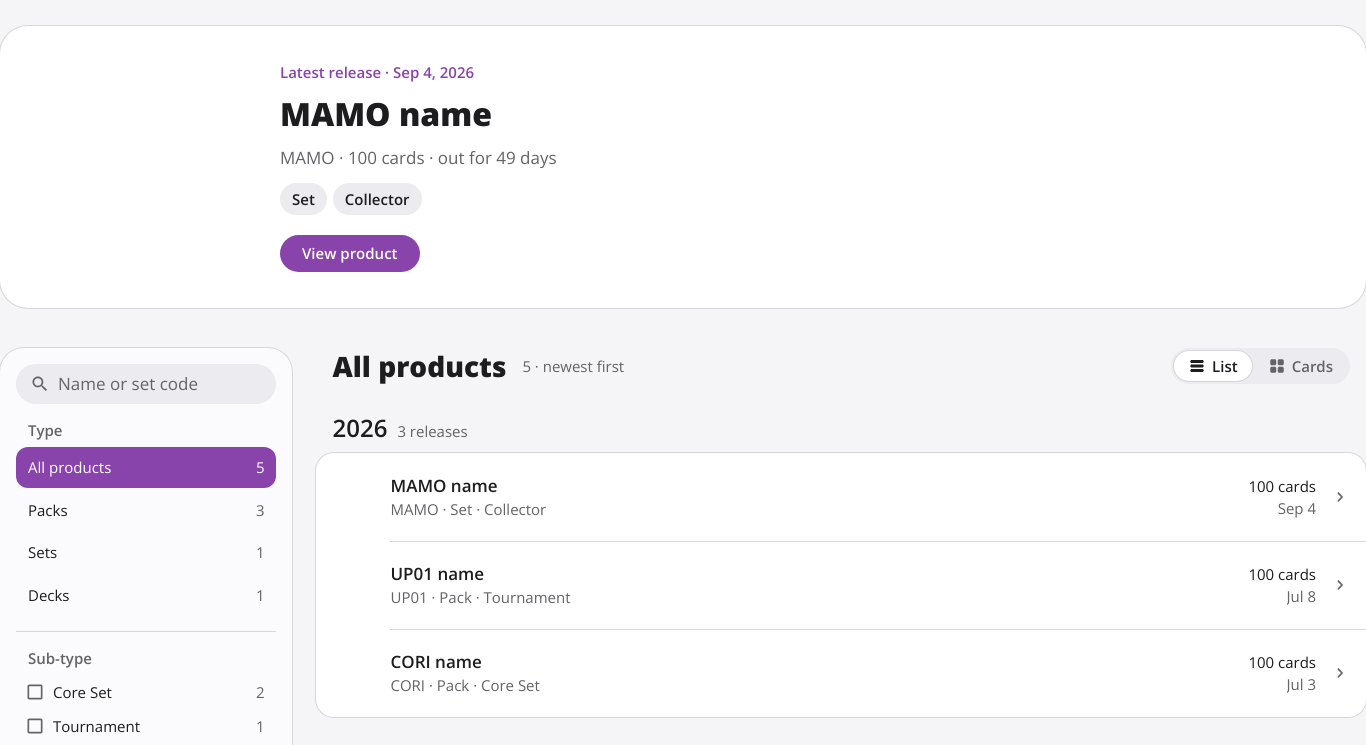
Scenario: searches names and set codes across every year
(page scrolled)
Type "lob" into the search field named "Search products". click: (160, 384)
box: 58,368 -> 262,401
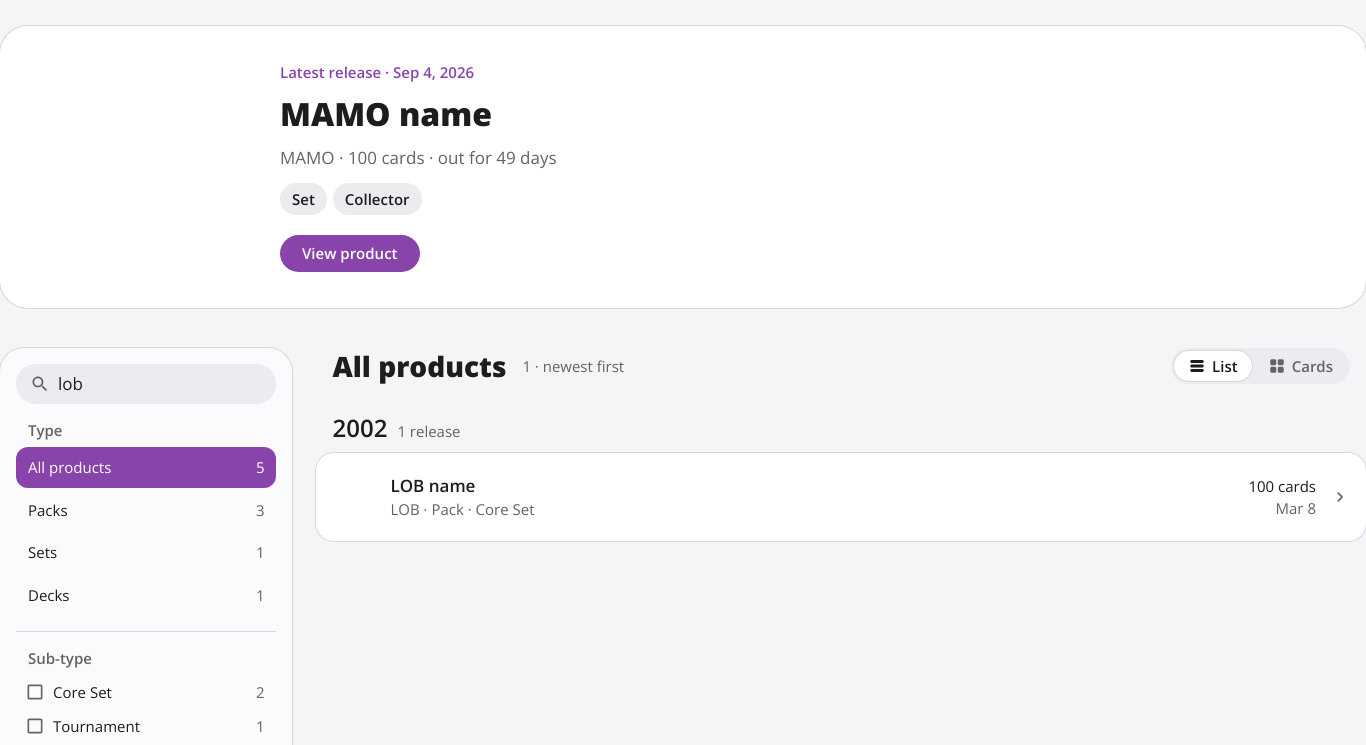
Replace the text in the search field named "Search products" with "nothing like this". click: (160, 384)
box: 58,368 -> 262,401
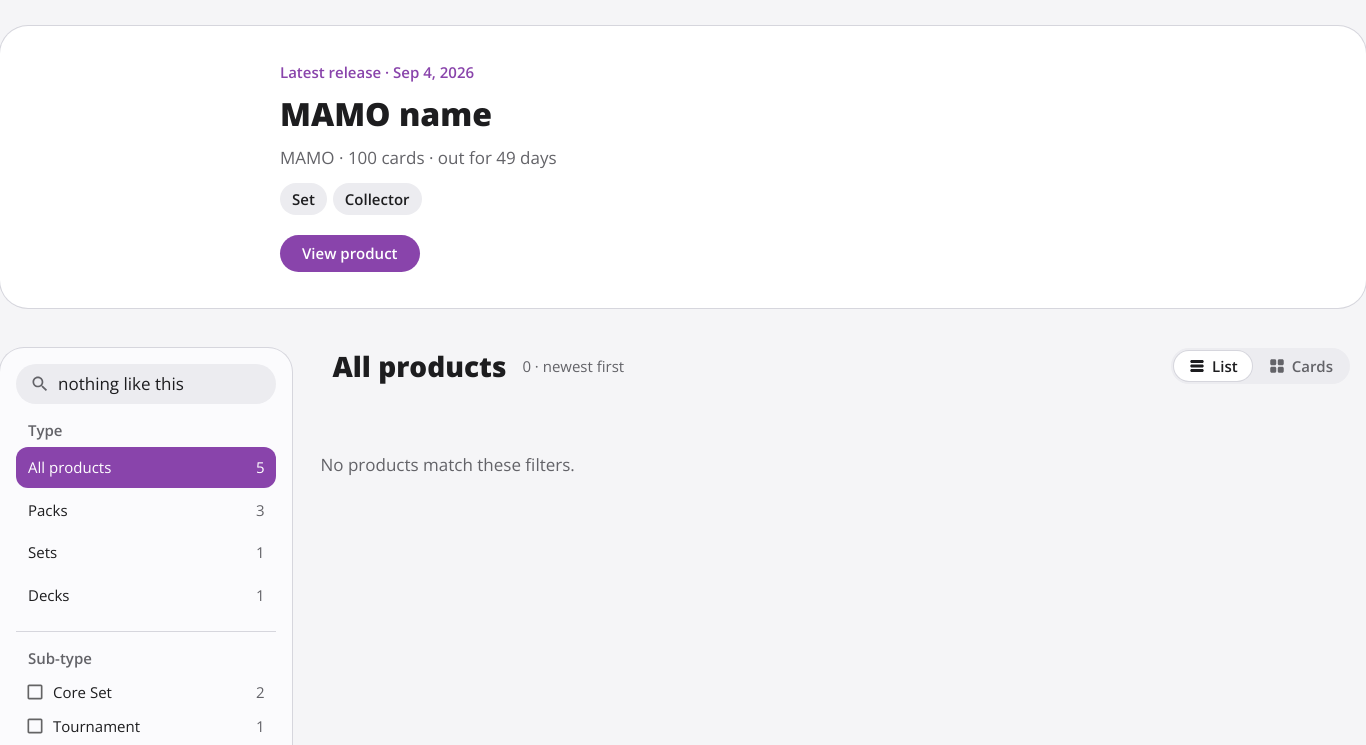
expect the text "No products match these filters." is shown: met, box 320,453 -> 575,476
